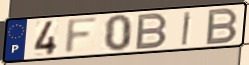0: (100, 14, 134, 53)
4: (32, 19, 59, 57)
B: (133, 11, 170, 51), (204, 6, 240, 46)
F: (62, 16, 102, 57)
I: (180, 10, 194, 47)
